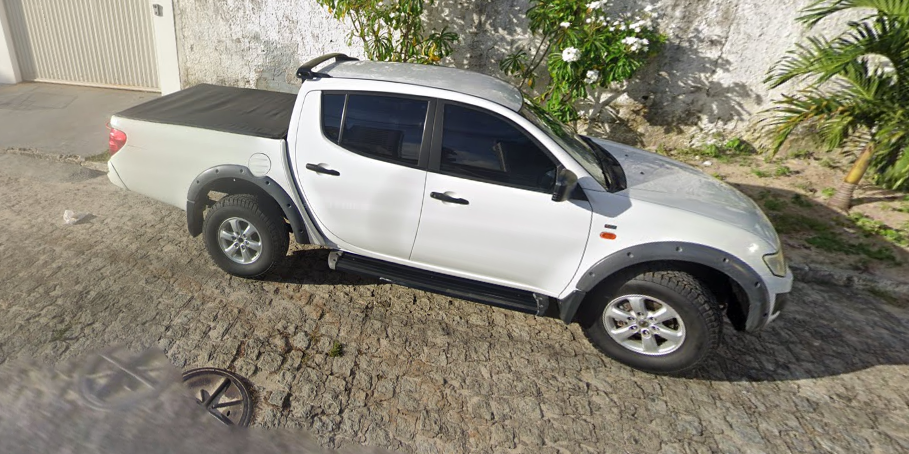car: (102, 48, 798, 382)
